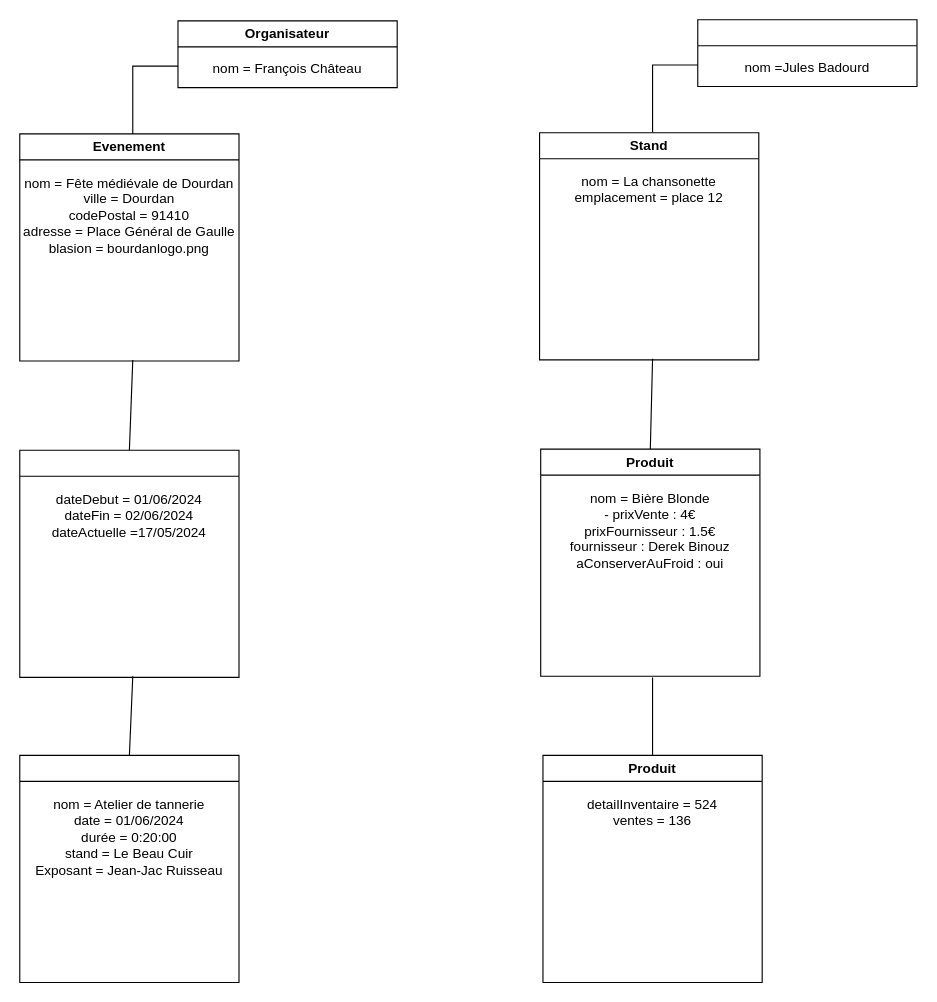
Image size: 937x1002. Some labels were removed from this diagram. The shapes that lost their labels are listed below. From the top down, each one's box as (x1, y1, x2, y2) in pixels, then its label:
(697, 19, 917, 86): Exposant
(19, 449, 239, 677): Planning
(19, 754, 239, 983): Activité
